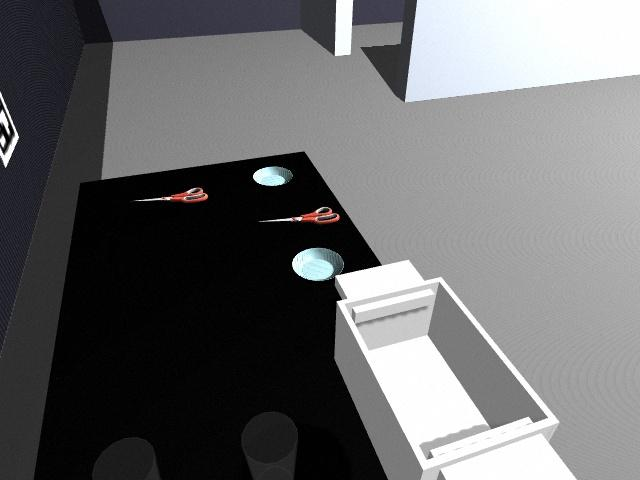cup: (240, 411, 297, 480), (92, 437, 162, 480)
plate: (290, 246, 346, 283), (252, 165, 295, 188)
scissors: (259, 206, 339, 225), (132, 188, 208, 206), (256, 216, 299, 223)
